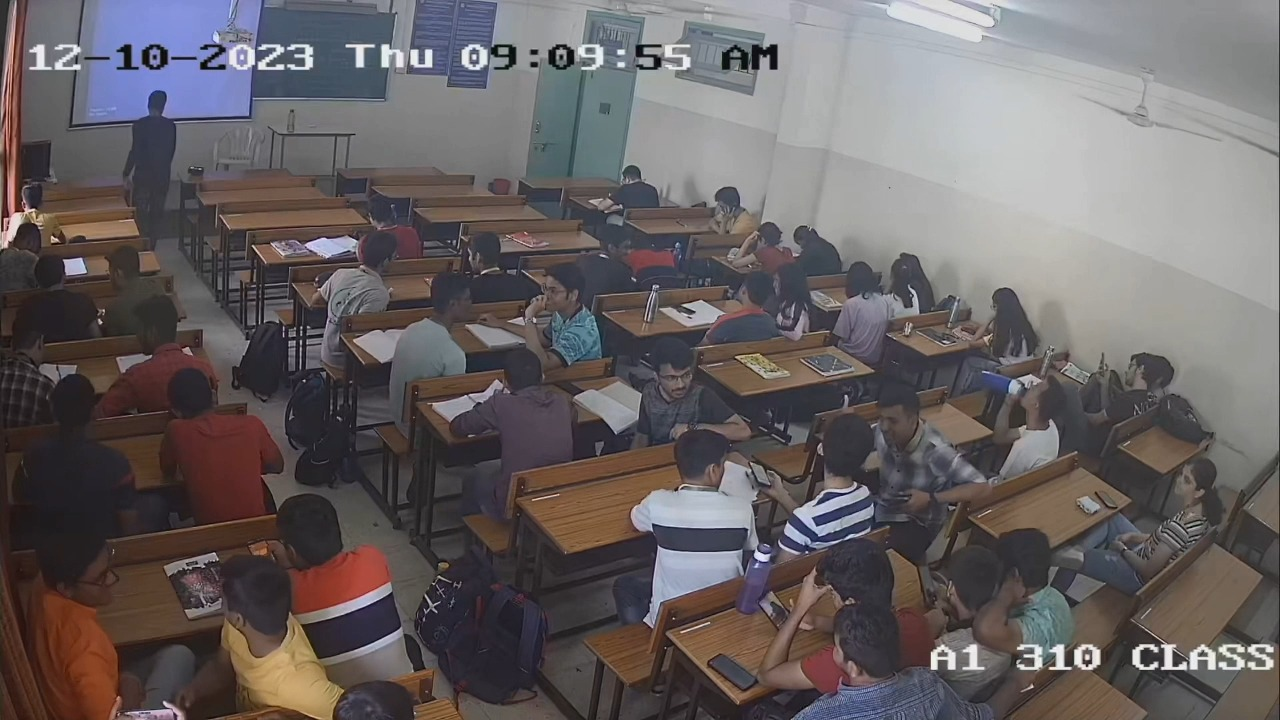cell-phones: (702, 649, 761, 695), (754, 588, 791, 633), (915, 559, 942, 610), (746, 458, 774, 489), (552, 376, 586, 398), (1094, 488, 1119, 511), (668, 302, 699, 318), (1097, 349, 1108, 378), (960, 325, 977, 336)
person: (790, 606, 957, 720), (459, 346, 576, 459), (780, 416, 880, 537), (1123, 450, 1230, 554), (933, 541, 1006, 687), (702, 272, 779, 344), (970, 286, 1038, 361), (1099, 351, 1160, 416)
